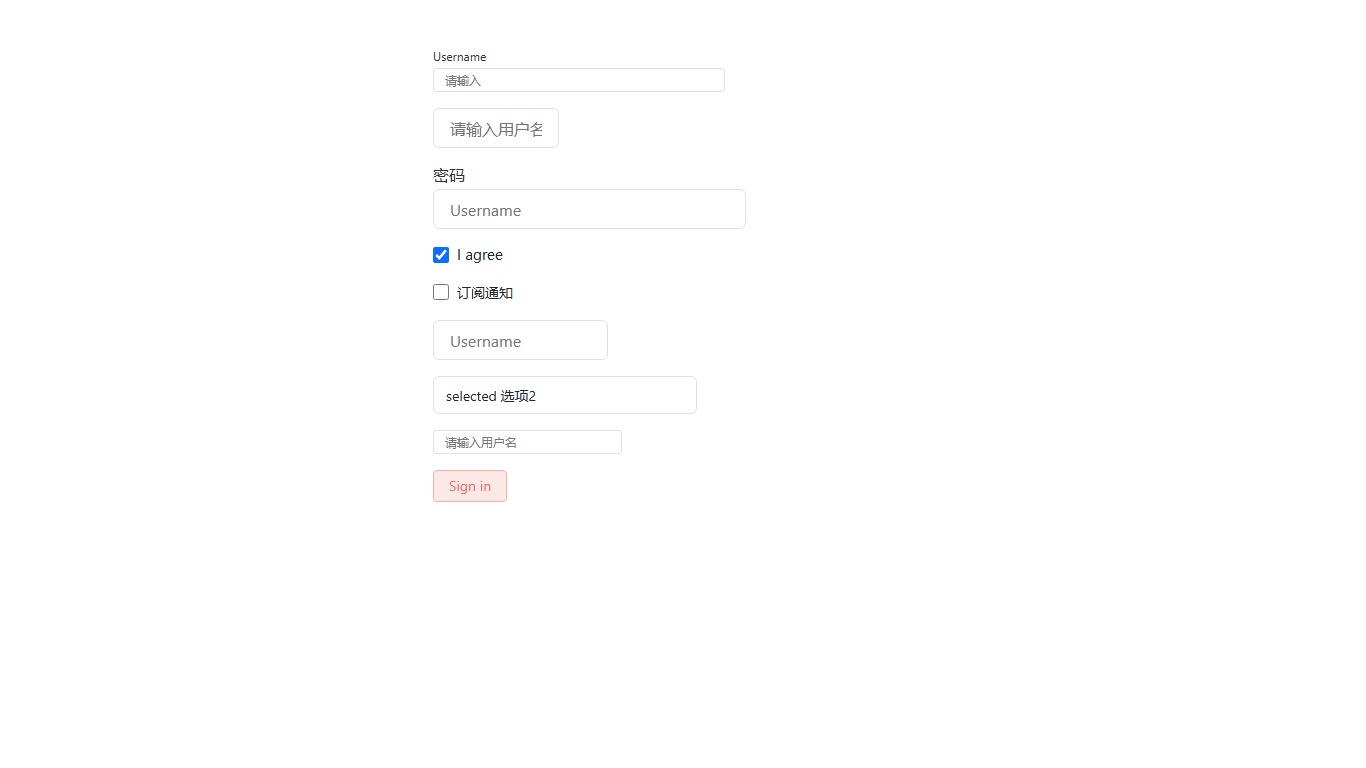button: (433, 470, 507, 502)
checkbox: (433, 246, 449, 262), (433, 284, 449, 300)
icon: (457, 282, 513, 301), (457, 245, 503, 264)
input: (433, 189, 746, 229), (433, 68, 725, 92), (433, 320, 608, 360), (433, 108, 559, 148), (433, 430, 622, 454)
radio: (433, 282, 513, 301), (433, 245, 503, 264)
select: (433, 376, 697, 414)
